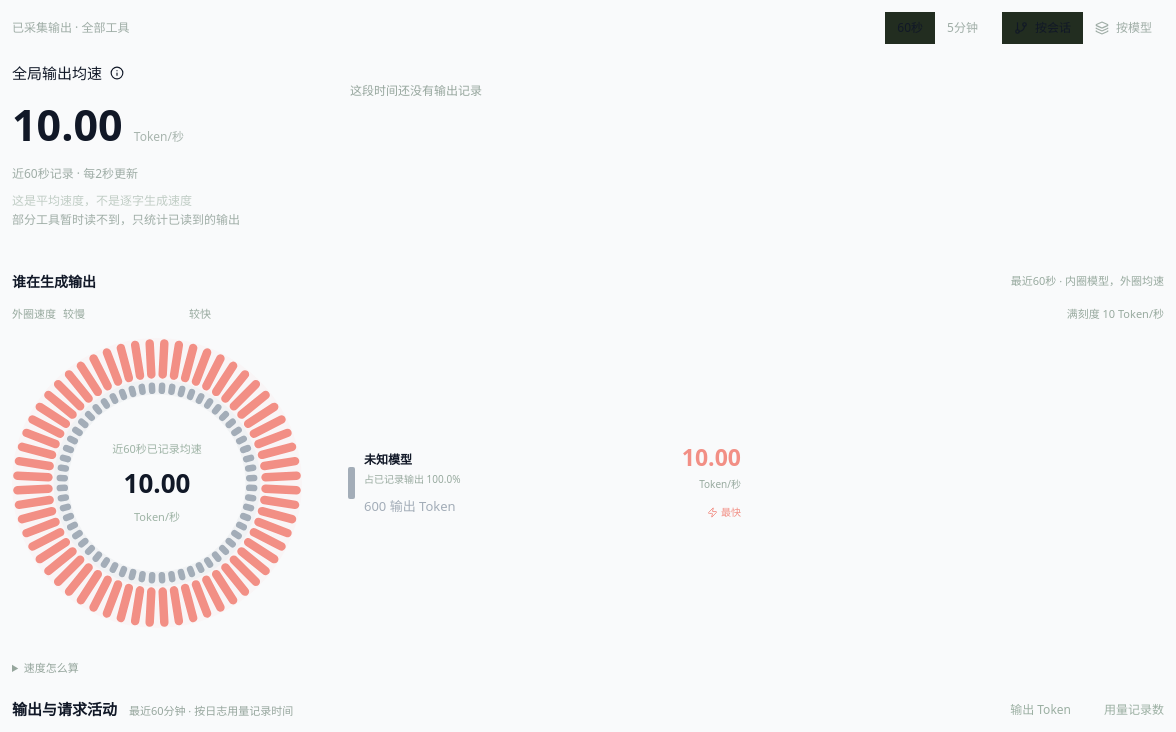
Scenario: UsageLivePanel › keeps unknown model values visible without interpreting their drill as all models
Expected: the button "未知模型 占已记录输出 100.0% 600 输出 Token 10.00 Token/秒 最快" is disabled, [348,426,741,541]
Expected: the button "未知模型 占已记录输出 100.0% 600 输出 Token 10.00 Token/秒 最快" is shown, [348,426,741,541]
Click the button "按模型". click: (1124, 28)
box: [1083,12,1164,44]
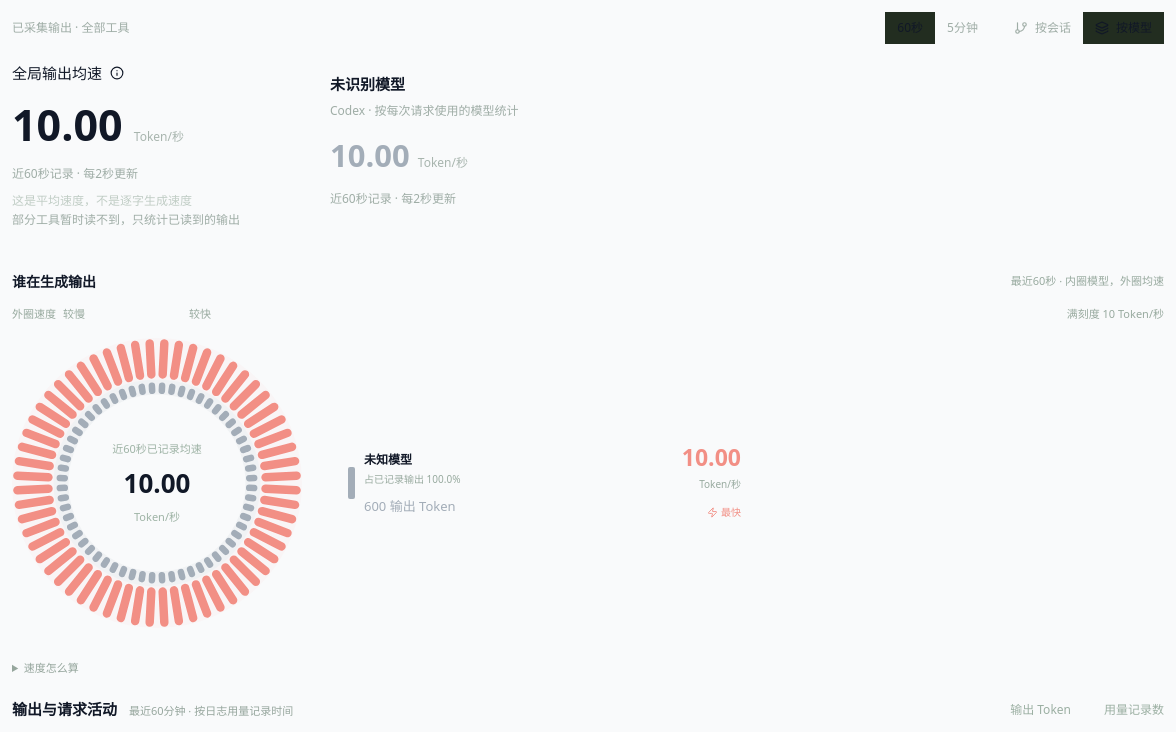
Now the button with class "rate-session" is disabled, box [330,62,720,221]
